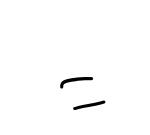eqv: (60, 77, 106, 110)
